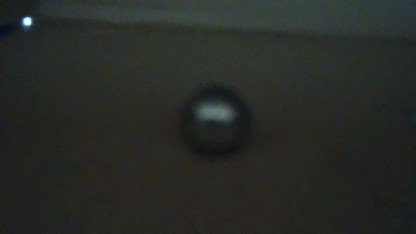ironball: (168, 80, 259, 159)
